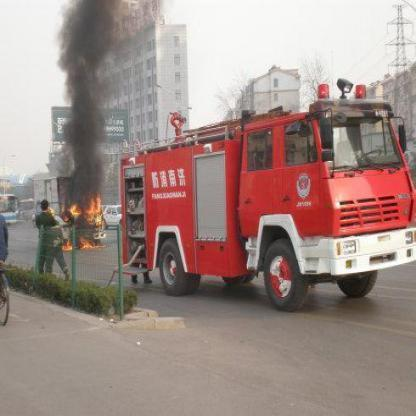fire: (53, 186, 112, 250)
smoke: (57, 0, 114, 190)
